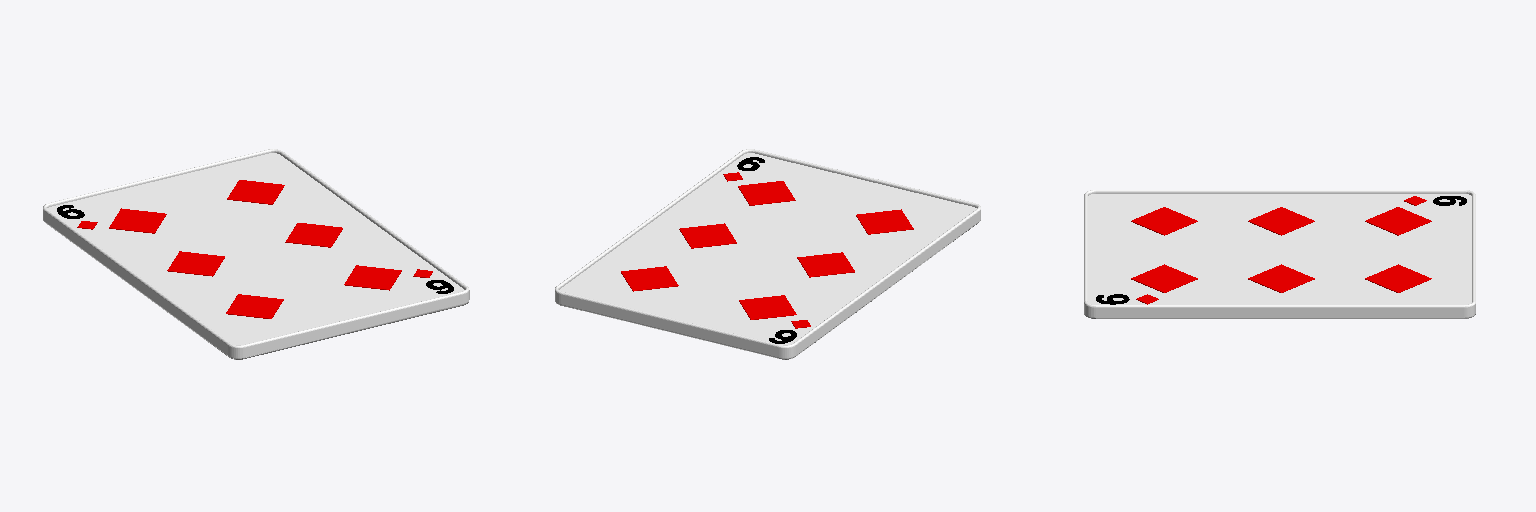
The model's file is diamonds_6.obj.
3 renders of one model, left to right at view 1: azimuth 30°, elevation 25°; view 2: azimuth 150°, elevation 25°; view 3: azimuth 270°, elevation 25°, orthographic.
Visible parts, largest first — view 1: rect4266.018, rect4266.072, path4884-1-4.005, path4884-1-7.002, path4884-1-4-9.003, path4884-1.005, path4884-1-7-8.001, path4884-1-40.003, rect4266.110; view 2: rect4266.018, rect4266.072, path4884-1-7.002, path4884-1-4.005, path4884-1.005, path4884-1-40.003, path4884-1-4-9.003, path4884-1-7-8.001; view 3: rect4266.018, rect4266.072, path4884-1.005, path4884-1-4.005, path4884-1-40.003, path4884-1-7.002, path4884-1-4-9.003, path4884-1-7-8.001.
Part boxes in pixels (bbox=[...]): rect4266.018: bbox=[47, 153, 464, 344]; rect4266.072: bbox=[43, 149, 469, 358]; path4884-1-4.005: bbox=[226, 294, 283, 318]; path4884-1-7.002: bbox=[167, 251, 224, 276]; path4884-1-4-9.003: bbox=[344, 265, 401, 290]; path4884-1.005: bbox=[109, 208, 166, 233]; path4884-1-7-8.001: bbox=[285, 223, 342, 247]; path4884-1-40.003: bbox=[227, 180, 284, 204]; rect4266.110: bbox=[46, 223, 468, 359]; rect4266.018: bbox=[559, 153, 976, 344]; rect4266.072: bbox=[555, 149, 980, 358]; path4884-1-7.002: bbox=[797, 252, 854, 277]; path4884-1-4.005: bbox=[856, 209, 913, 234]; path4884-1.005: bbox=[739, 295, 796, 319]; path4884-1-40.003: bbox=[621, 266, 678, 291]; path4884-1-4-9.003: bbox=[738, 181, 795, 205]; path4884-1-7-8.001: bbox=[679, 223, 736, 248]; rect4266.018: bbox=[1088, 194, 1471, 304]; rect4266.072: bbox=[1084, 190, 1475, 318]; path4884-1.005: bbox=[1365, 207, 1431, 235]; path4884-1-4.005: bbox=[1131, 207, 1197, 235]; path4884-1-40.003: bbox=[1365, 264, 1431, 292]; path4884-1-7.002: bbox=[1248, 207, 1314, 235]; path4884-1-4-9.003: bbox=[1131, 264, 1197, 292]; path4884-1-7-8.001: bbox=[1248, 264, 1314, 292].
Size of the model in its own units: 2.88 by 0.1966 by 4.08.